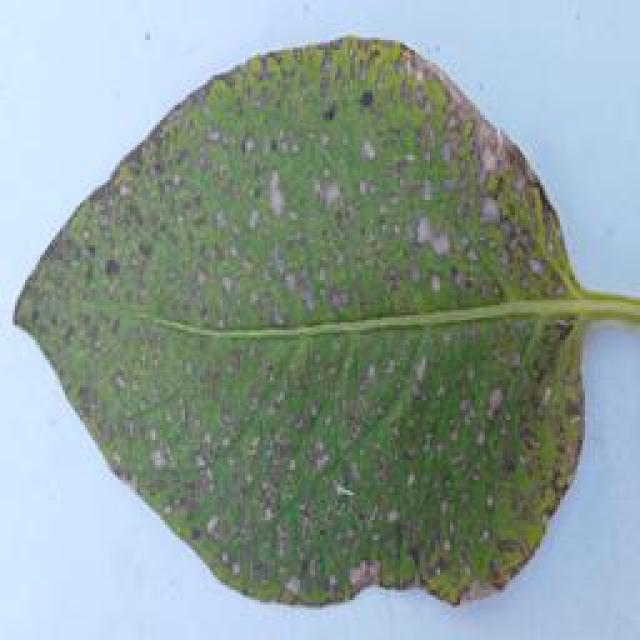Potato_Early_Blight: (19, 31, 600, 612)
